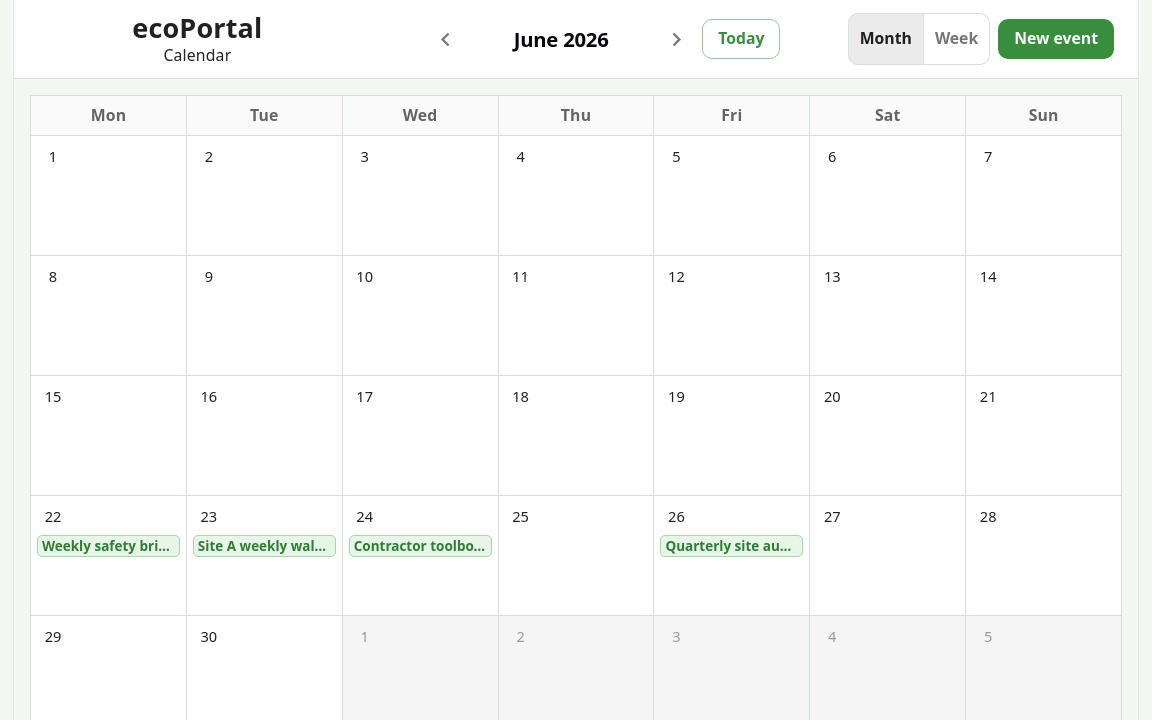
App integration › navigation › preserves the anchor date when switching to week view
Step 1. Click the button with aria-label "Week view" → (957,39), box x1=923 y1=13 x2=990 y2=65
(page scrolled)
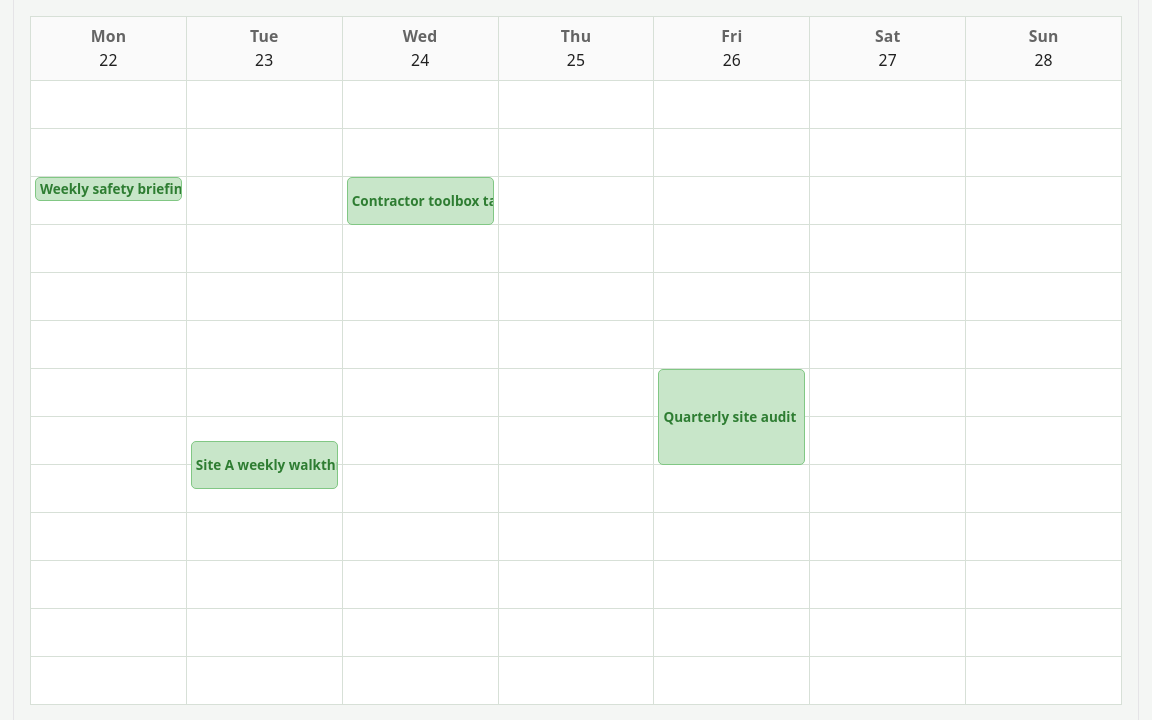
Check: the element named "Week of June 22, 2026" is shown
